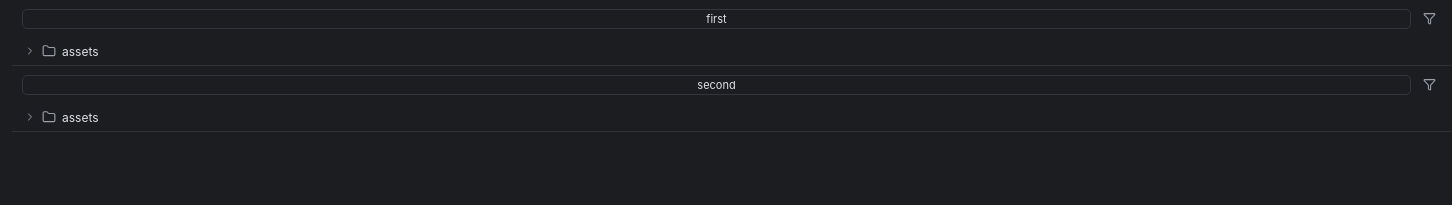
revealing an already open file clears a selection in another root
The image size is (1452, 205).
What coordinates should you click on to do the following:
click the 1st button with test id "file-assets"
I would click on:
 (80, 51)
Its box is top-left (12, 37), bottom-right (1434, 65).
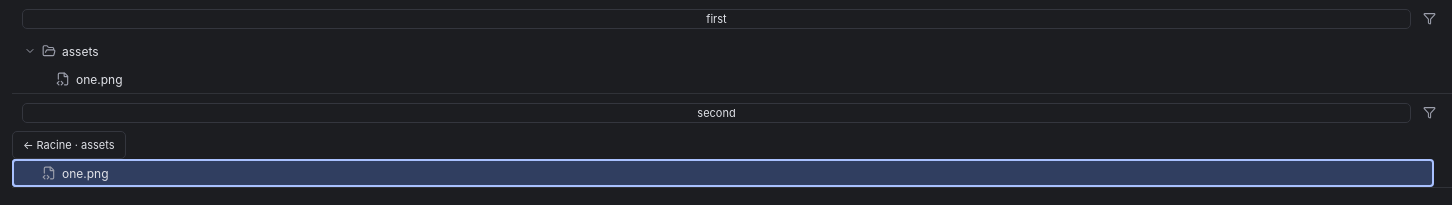
Expected: the number of buttons with class "selected" is 1, top-left (12, 159), bottom-right (1434, 187)
